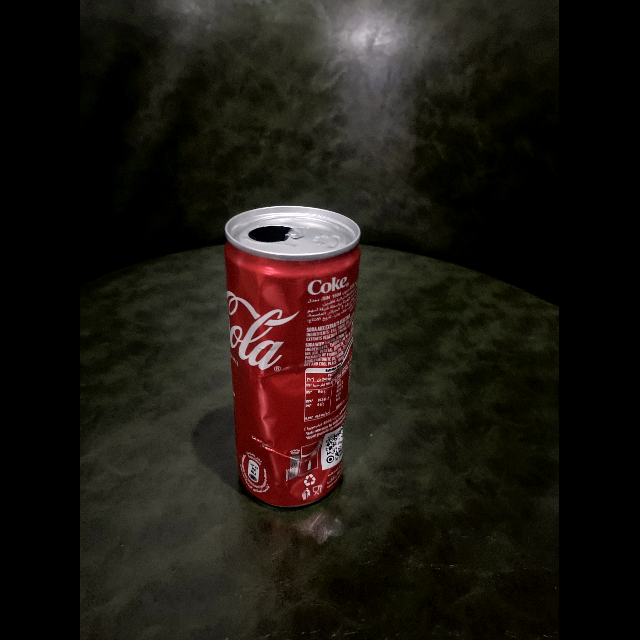coca-cola CAN: (223, 205, 361, 508)
